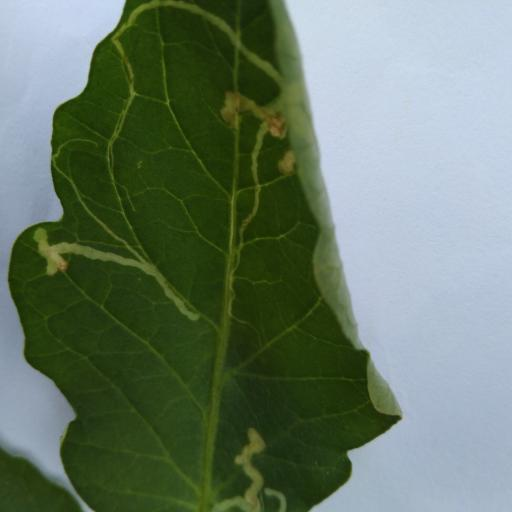disease_tomato: (8, 0, 400, 512)
